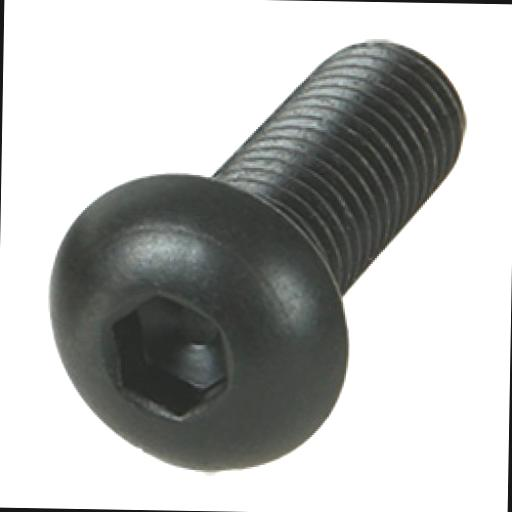Hex-Allen: (46, 168, 351, 474)
